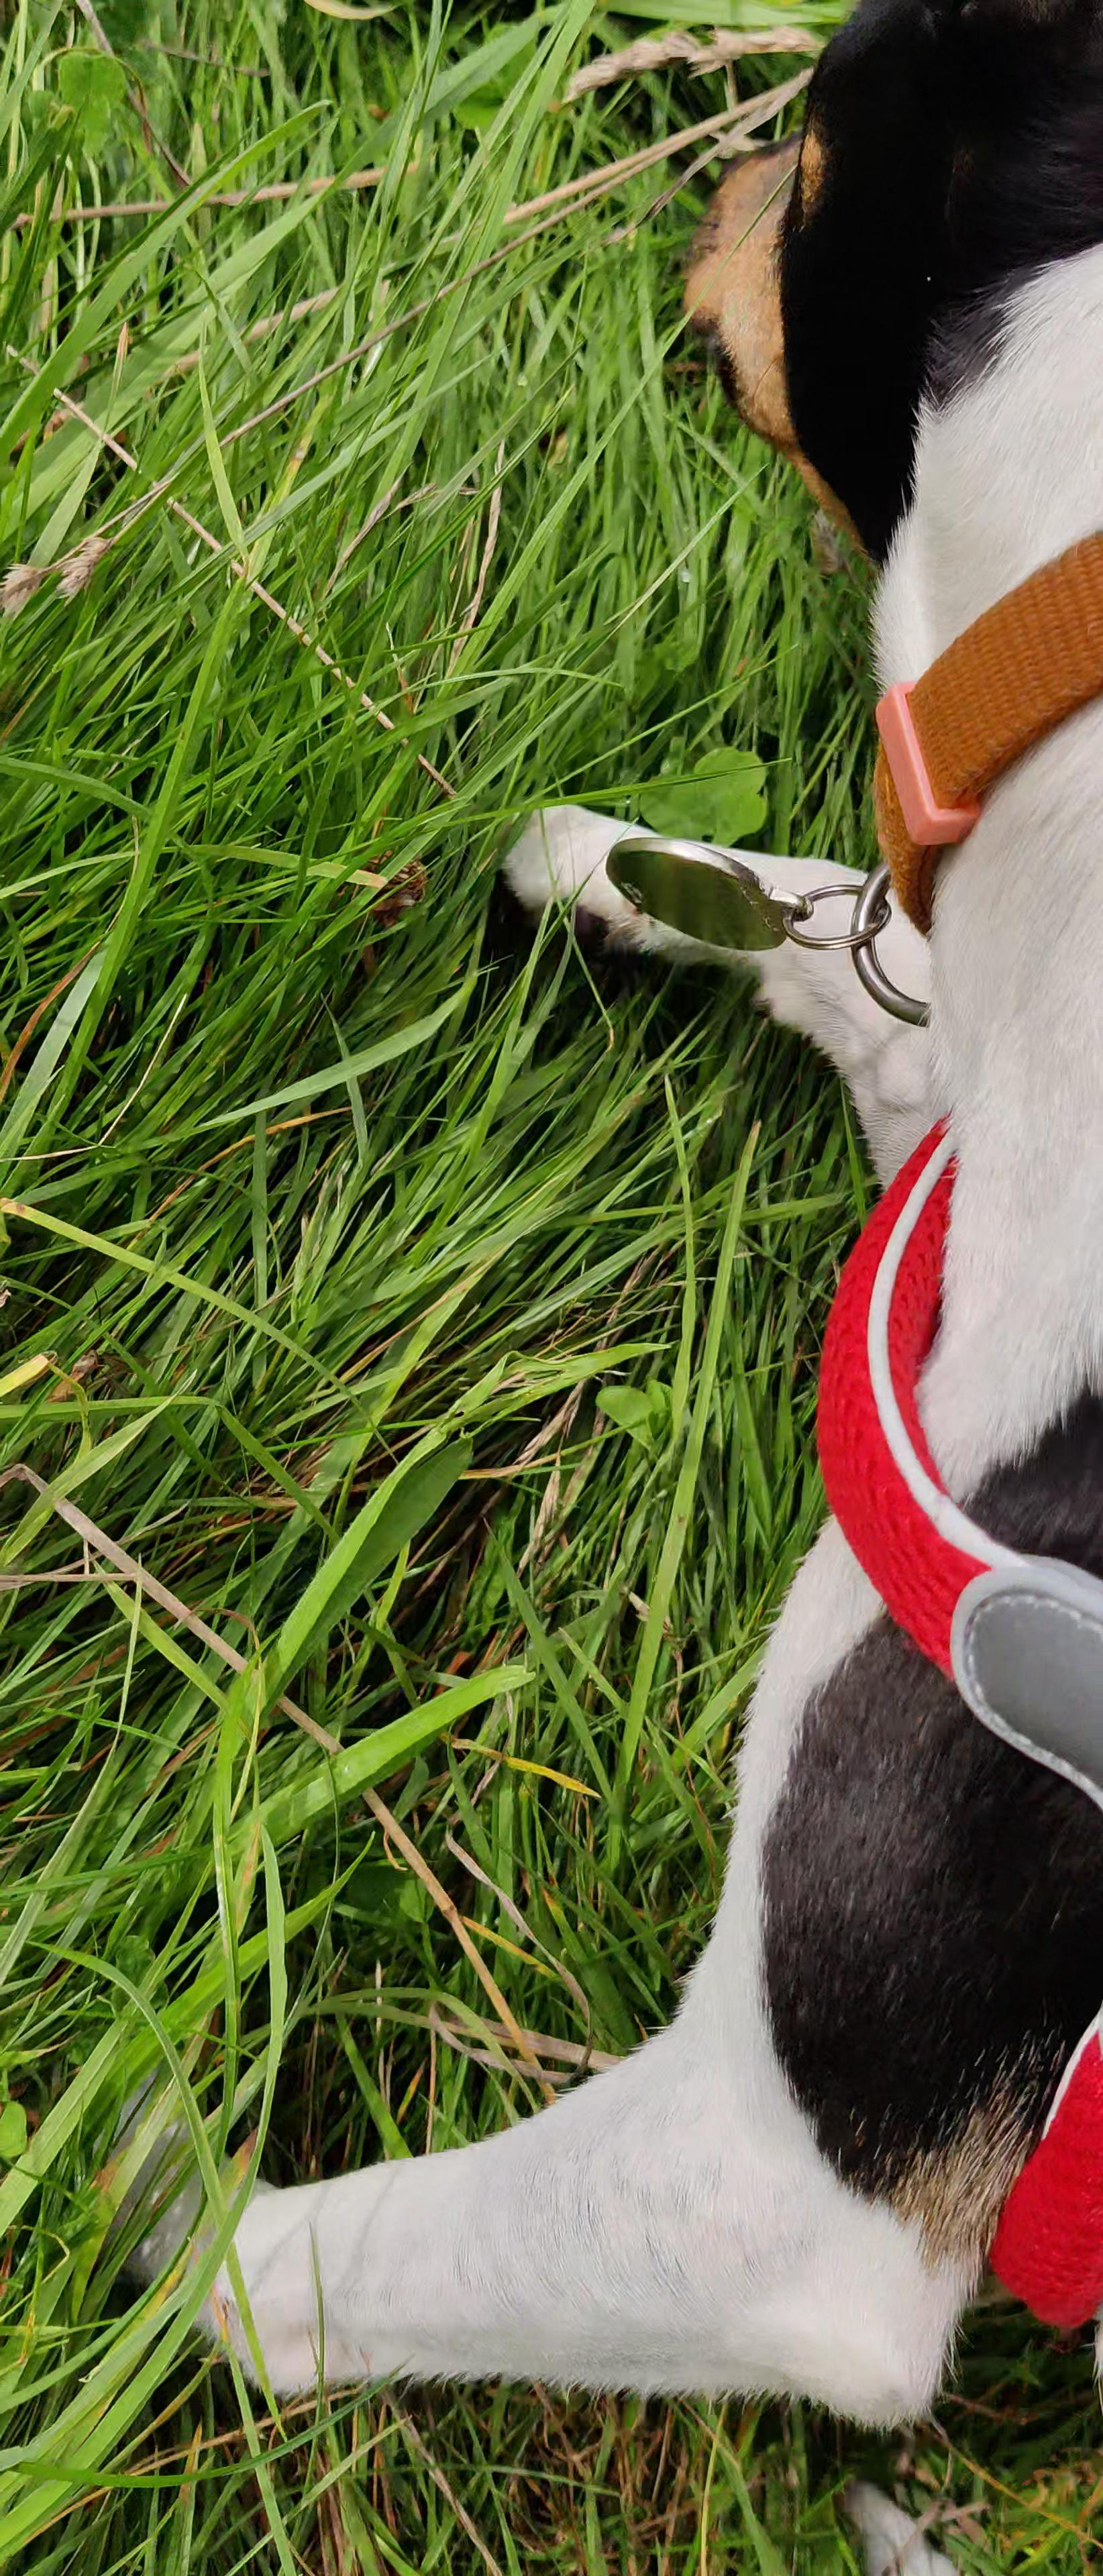Dog: (85, 0, 1103, 2576)
